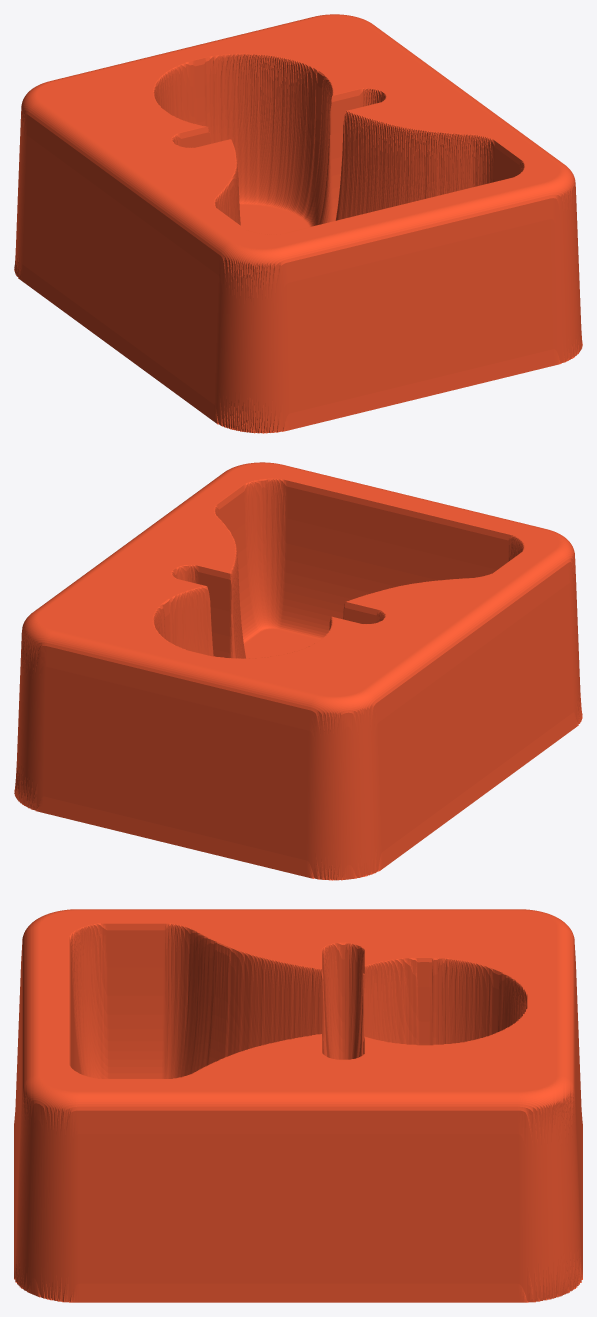
The model's file is mold.glb.
3 views of the same model, one above another, from view 1: azimuth 30°, elevation 25°; view 2: azimuth 150°, elevation 25°; view 3: azimuth 270°, elevation 25° (orthographic). The views are drawn at different scales.
Visible parts, largest first — view 1: geometry_0; view 2: geometry_0; view 3: geometry_0.
Part boxes in pixels (x1=…): geometry_0: x1=14, y1=14, x2=582, y2=433; geometry_0: x1=14, y1=462, x2=582, y2=880; geometry_0: x1=14, y1=909, x2=582, y2=1302.
Size of the model in its own units: 0.0672 by 0.031 by 0.0798.
